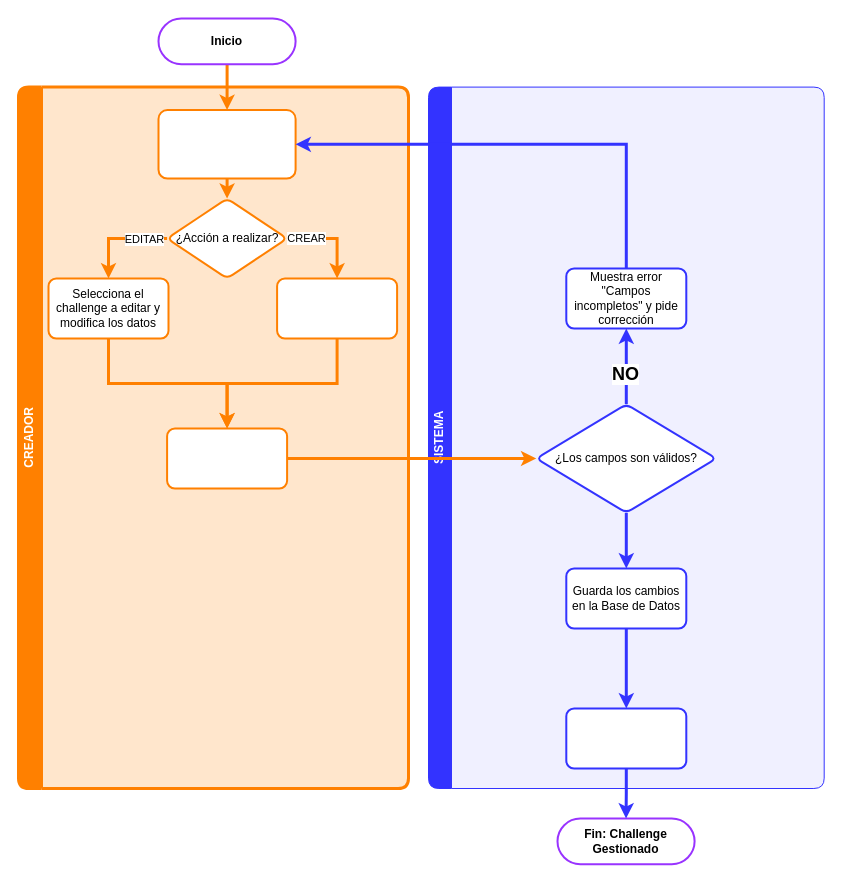
Image size: 842x882. Some labels were removed from this diagram. The centre of each missing label's shape, as x and y in pixels:
Accede a Gestión de Challenges: (226,143)
Click en guardar: (227,458)
Llena el formulario con título y descripción del nuevo challenge: (337,308)
Muestra Confirmación Visual "Challenge Guardado con éxito": (626,738)
